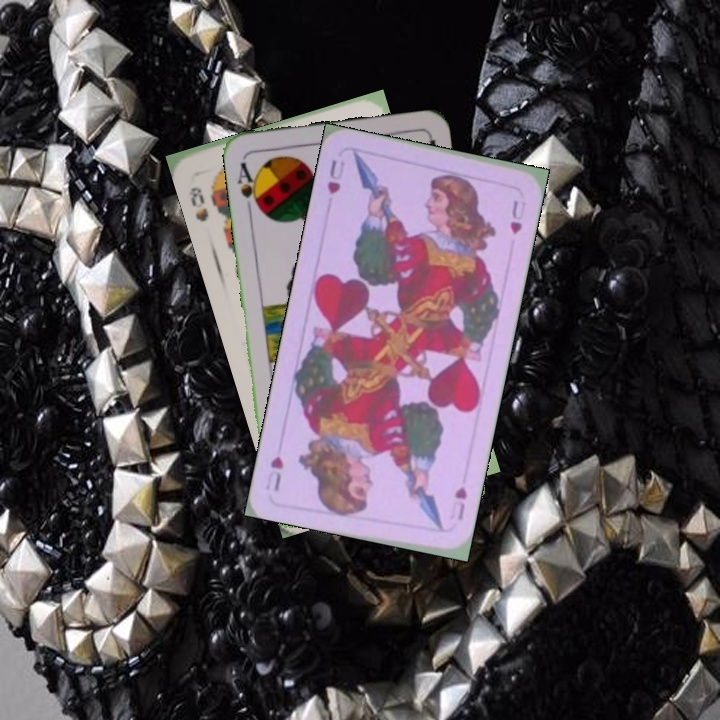HU: (323, 155, 347, 197), (446, 482, 470, 523)
S8: (185, 182, 211, 225)
SA: (233, 158, 264, 215)
